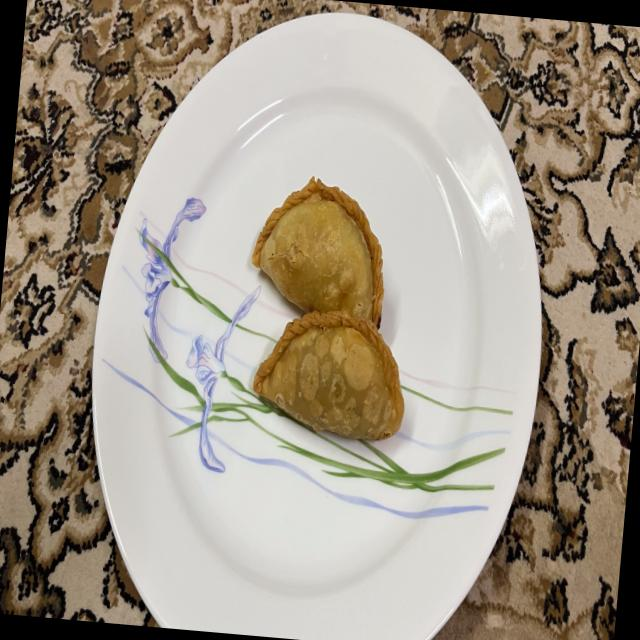karipap: (251, 177, 383, 327), (253, 310, 404, 441)
